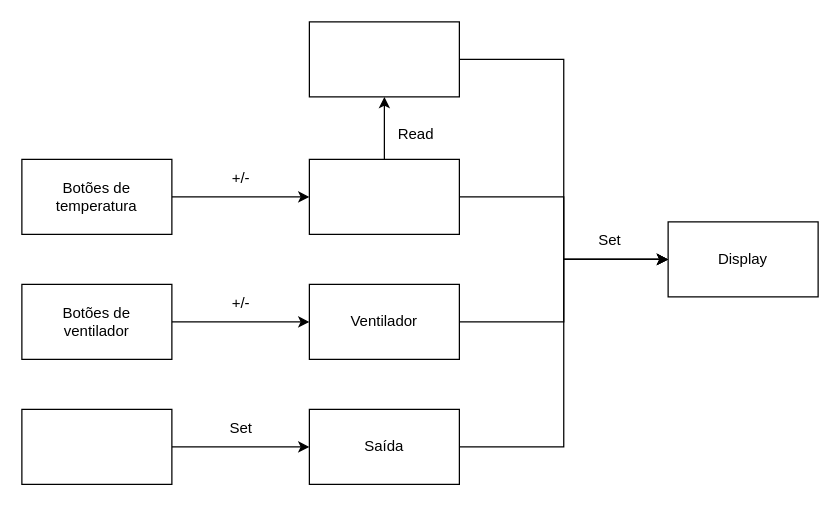
This 840x506 diagram has some shape labels left out. Each missing label, with the box of its shape:
Ar-condicionado: (308, 158, 459, 234)
Botão de saída: (21, 408, 172, 484)
Sensores: (308, 21, 459, 97)
